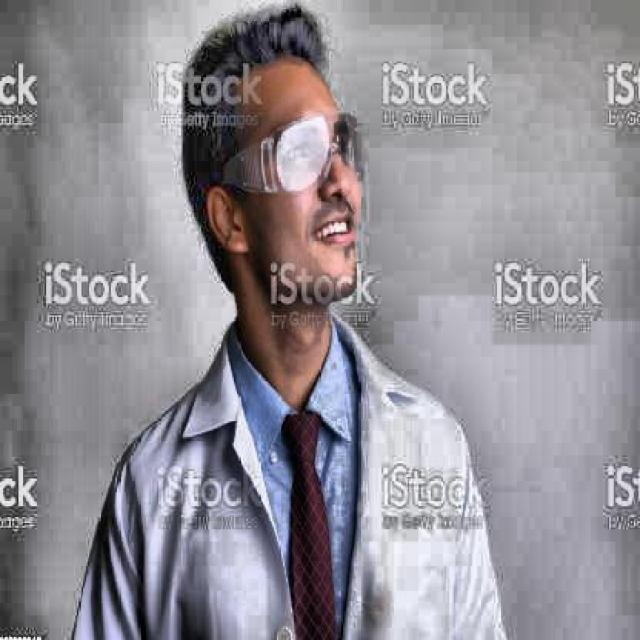Goggles: (210, 105, 379, 203)
